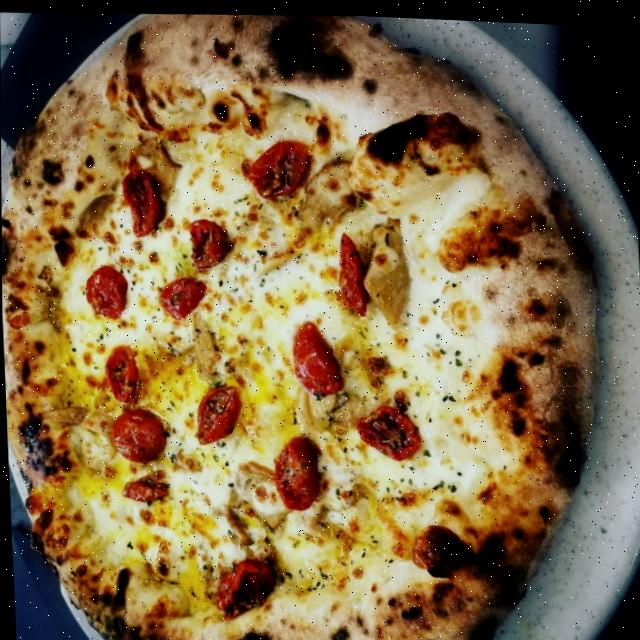pizza: (0, 0, 609, 640)
tomatoes: (208, 548, 284, 630), (240, 130, 314, 202), (272, 425, 326, 516), (350, 396, 421, 465), (287, 315, 347, 396), (115, 161, 167, 240), (191, 373, 245, 445), (108, 405, 168, 465), (81, 257, 128, 324), (153, 270, 207, 327), (332, 227, 368, 312), (181, 212, 234, 268), (98, 338, 143, 402), (121, 468, 172, 505)
